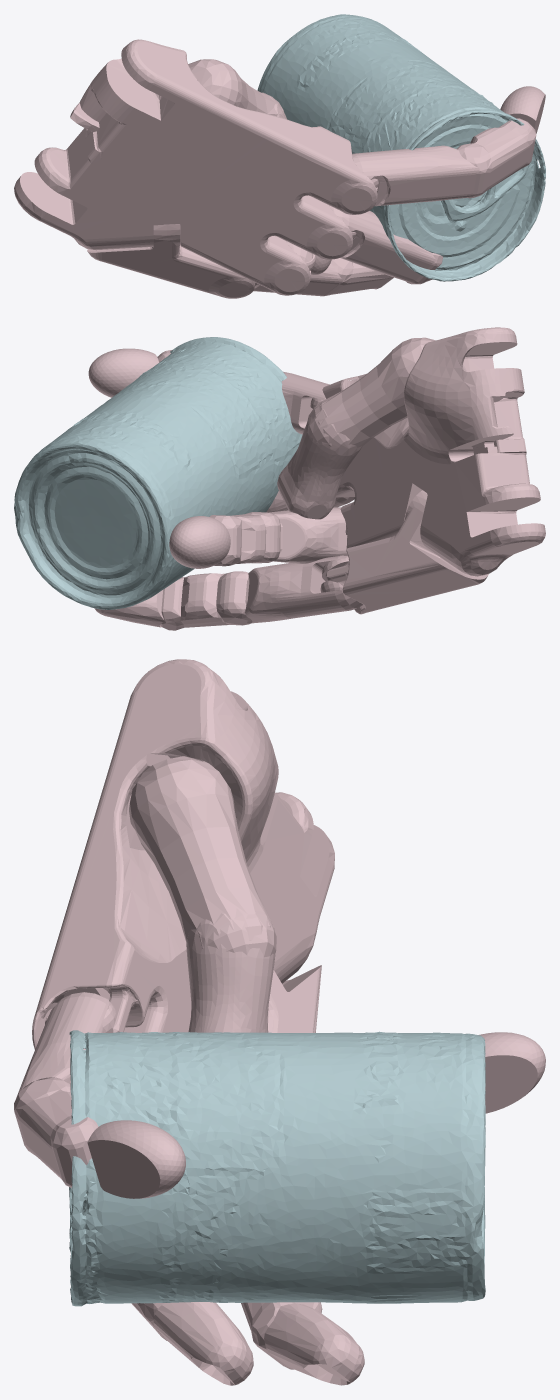
File: grasp_1.glb
3 renders of one model, top to bottom at view 1: azimuth 30°, elevation 25°; view 2: azimuth 150°, elevation 25°; view 3: azimuth 270°, elevation 25°, orthographic. The views are drawn at different scales.
Parts seen in each view (by area): view 1: world; view 2: world; view 3: world.
Part boxes in pixels (x1,y1,x2,y2): world: (14, 14, 545, 298); world: (14, 327, 545, 630); world: (14, 659, 545, 1385).
Bounding box in the file's own units: 0.2054 × 0.1357 × 0.13.
